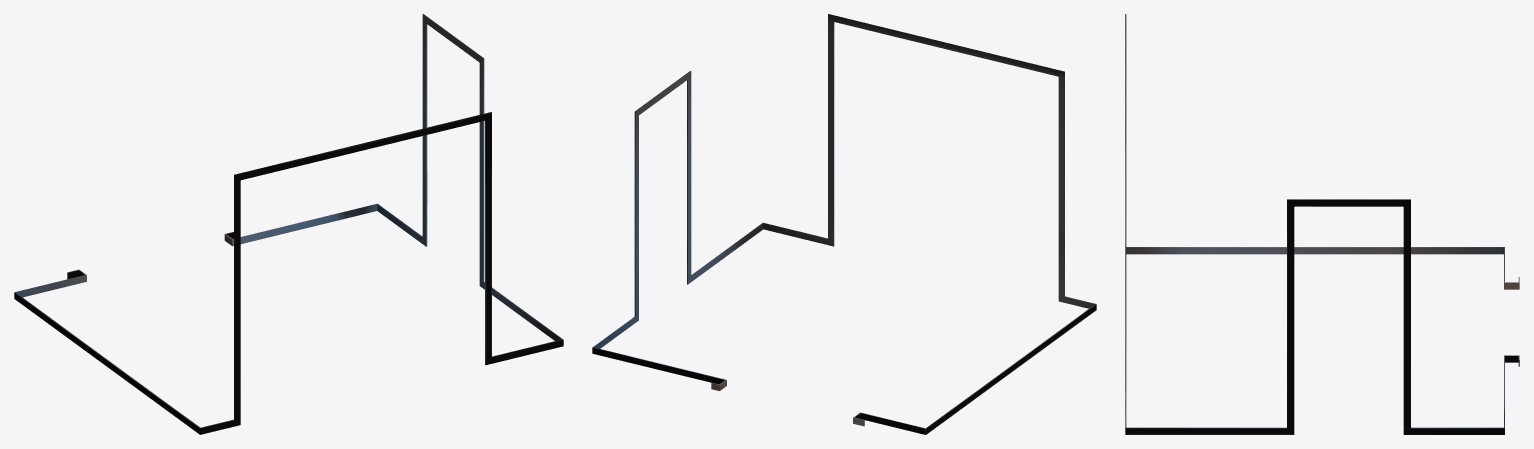
3 renders of one model, left to right at view 1: azimuth 30°, elevation 25°; view 2: azimuth 150°, elevation 25°; view 3: azimuth 270°, elevation 25°, orthographic. The views are drawn at different scales.
Parts seen in each view (by area): view 1: Plane.009; view 2: Plane.009; view 3: Plane.009.
Part boxes in pixels (left/top/right/bottom): Plane.009: left=14, top=14, right=563, bottom=434; Plane.009: left=592, top=14, right=1096, bottom=434; Plane.009: left=1125, top=14, right=1519, bottom=434.
Bounding box in the file's own units: 3.58 × 2.36 × 3.29.
Materials: 1 (1 with a texture image).
